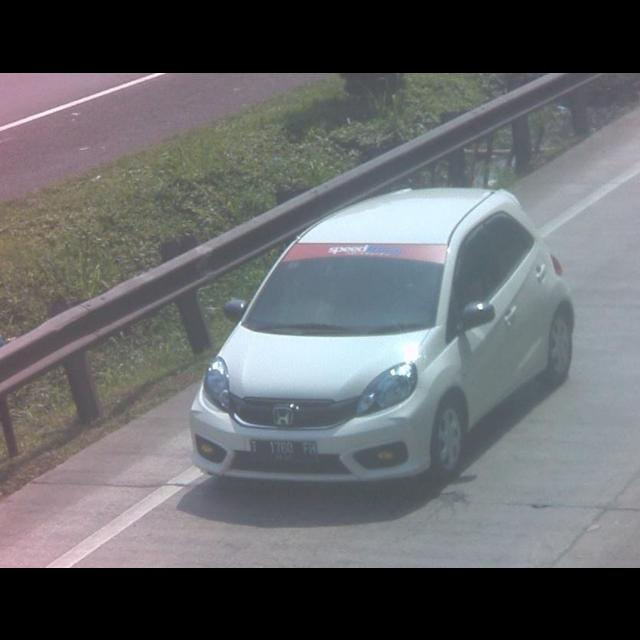plate: (247, 436, 321, 462)
